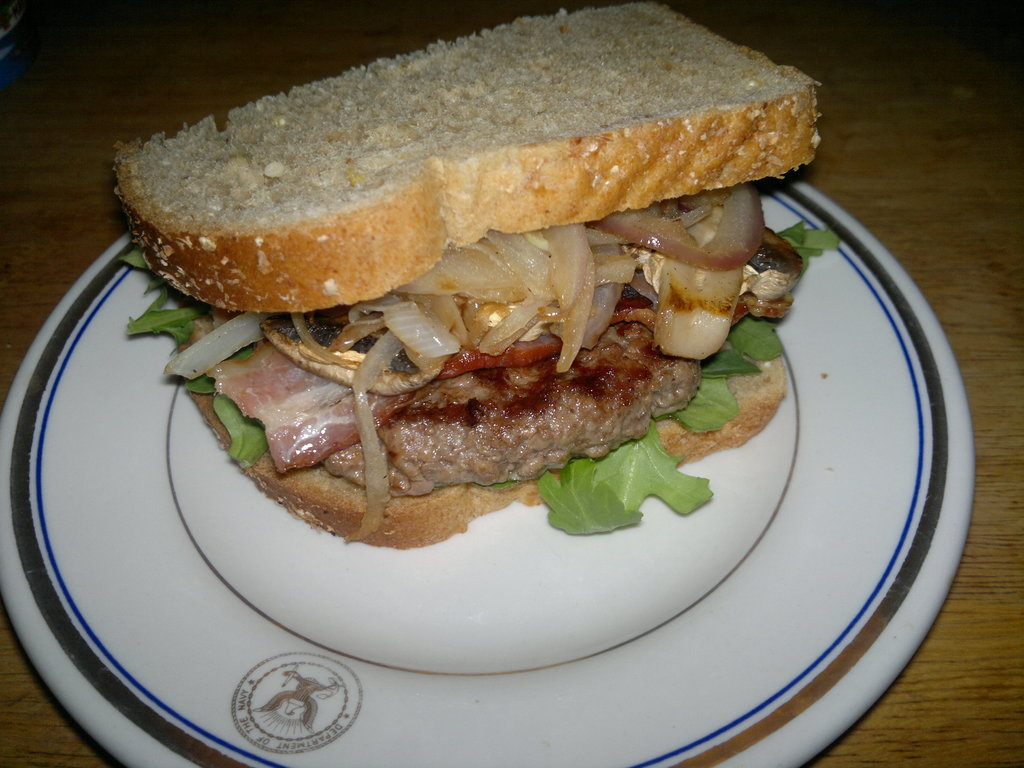sandwich: (116, 0, 842, 554)
